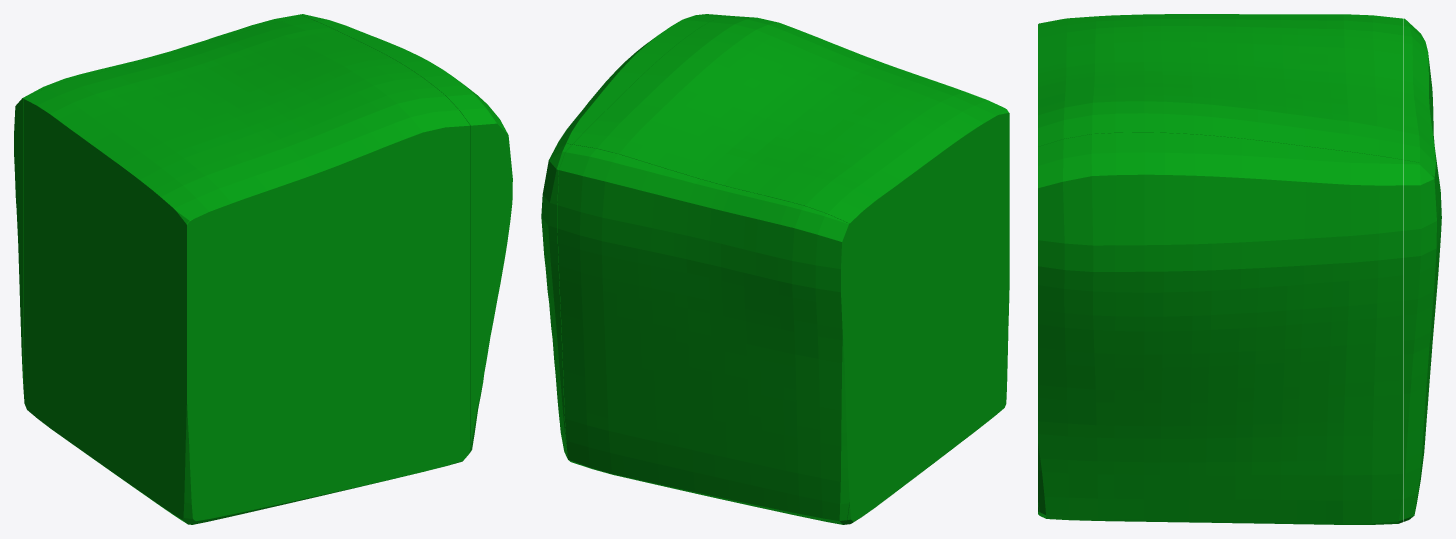
File: 4by10beveledsubdivided.001.fbx
3 views of the same model, side by side, from view 1: azimuth 30°, elevation 25°; view 2: azimuth 150°, elevation 25°; view 3: azimuth 270°, elevation 25° (orthographic). The views are drawn at different scales.
Parts seen in each view (by area): view 1: 4by10beveledsubdivided.001; view 2: 4by10beveledsubdivided.001; view 3: 4by10beveledsubdivided.001.
Part boxes in pixels (x1,y1,x2,y2): 4by10beveledsubdivided.001: (14,14,512,524); 4by10beveledsubdivided.001: (541,14,1009,524); 4by10beveledsubdivided.001: (1038,14,1441,524).
Bounding box in the file's own units: 238 × 237 × 221.
